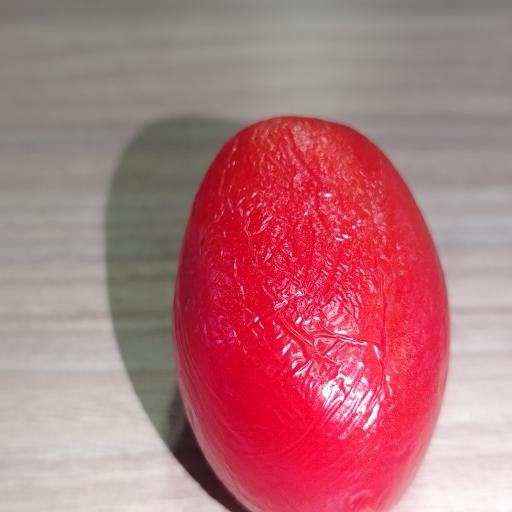spoiled: (173, 117, 449, 512)
